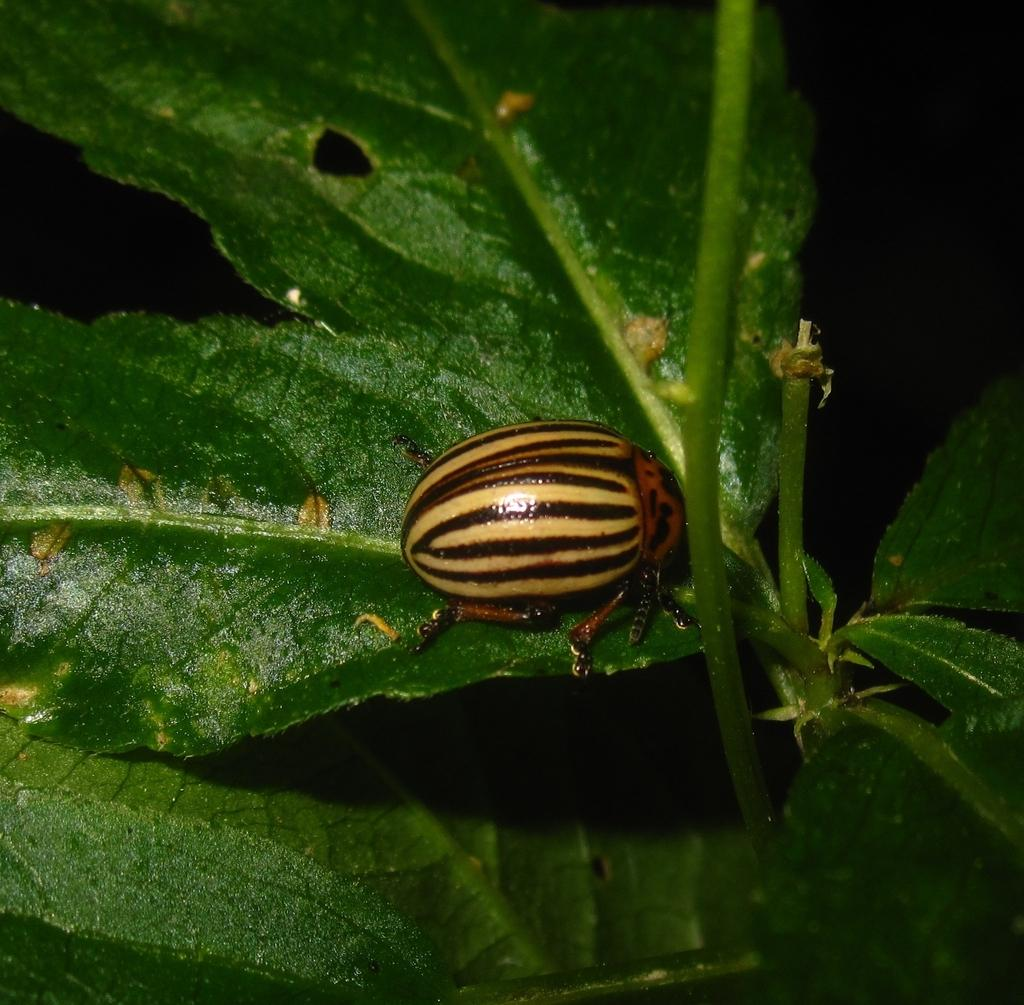potato_beetle: (352, 375, 719, 688)
